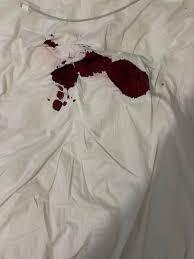blood: (51, 52, 150, 107)
